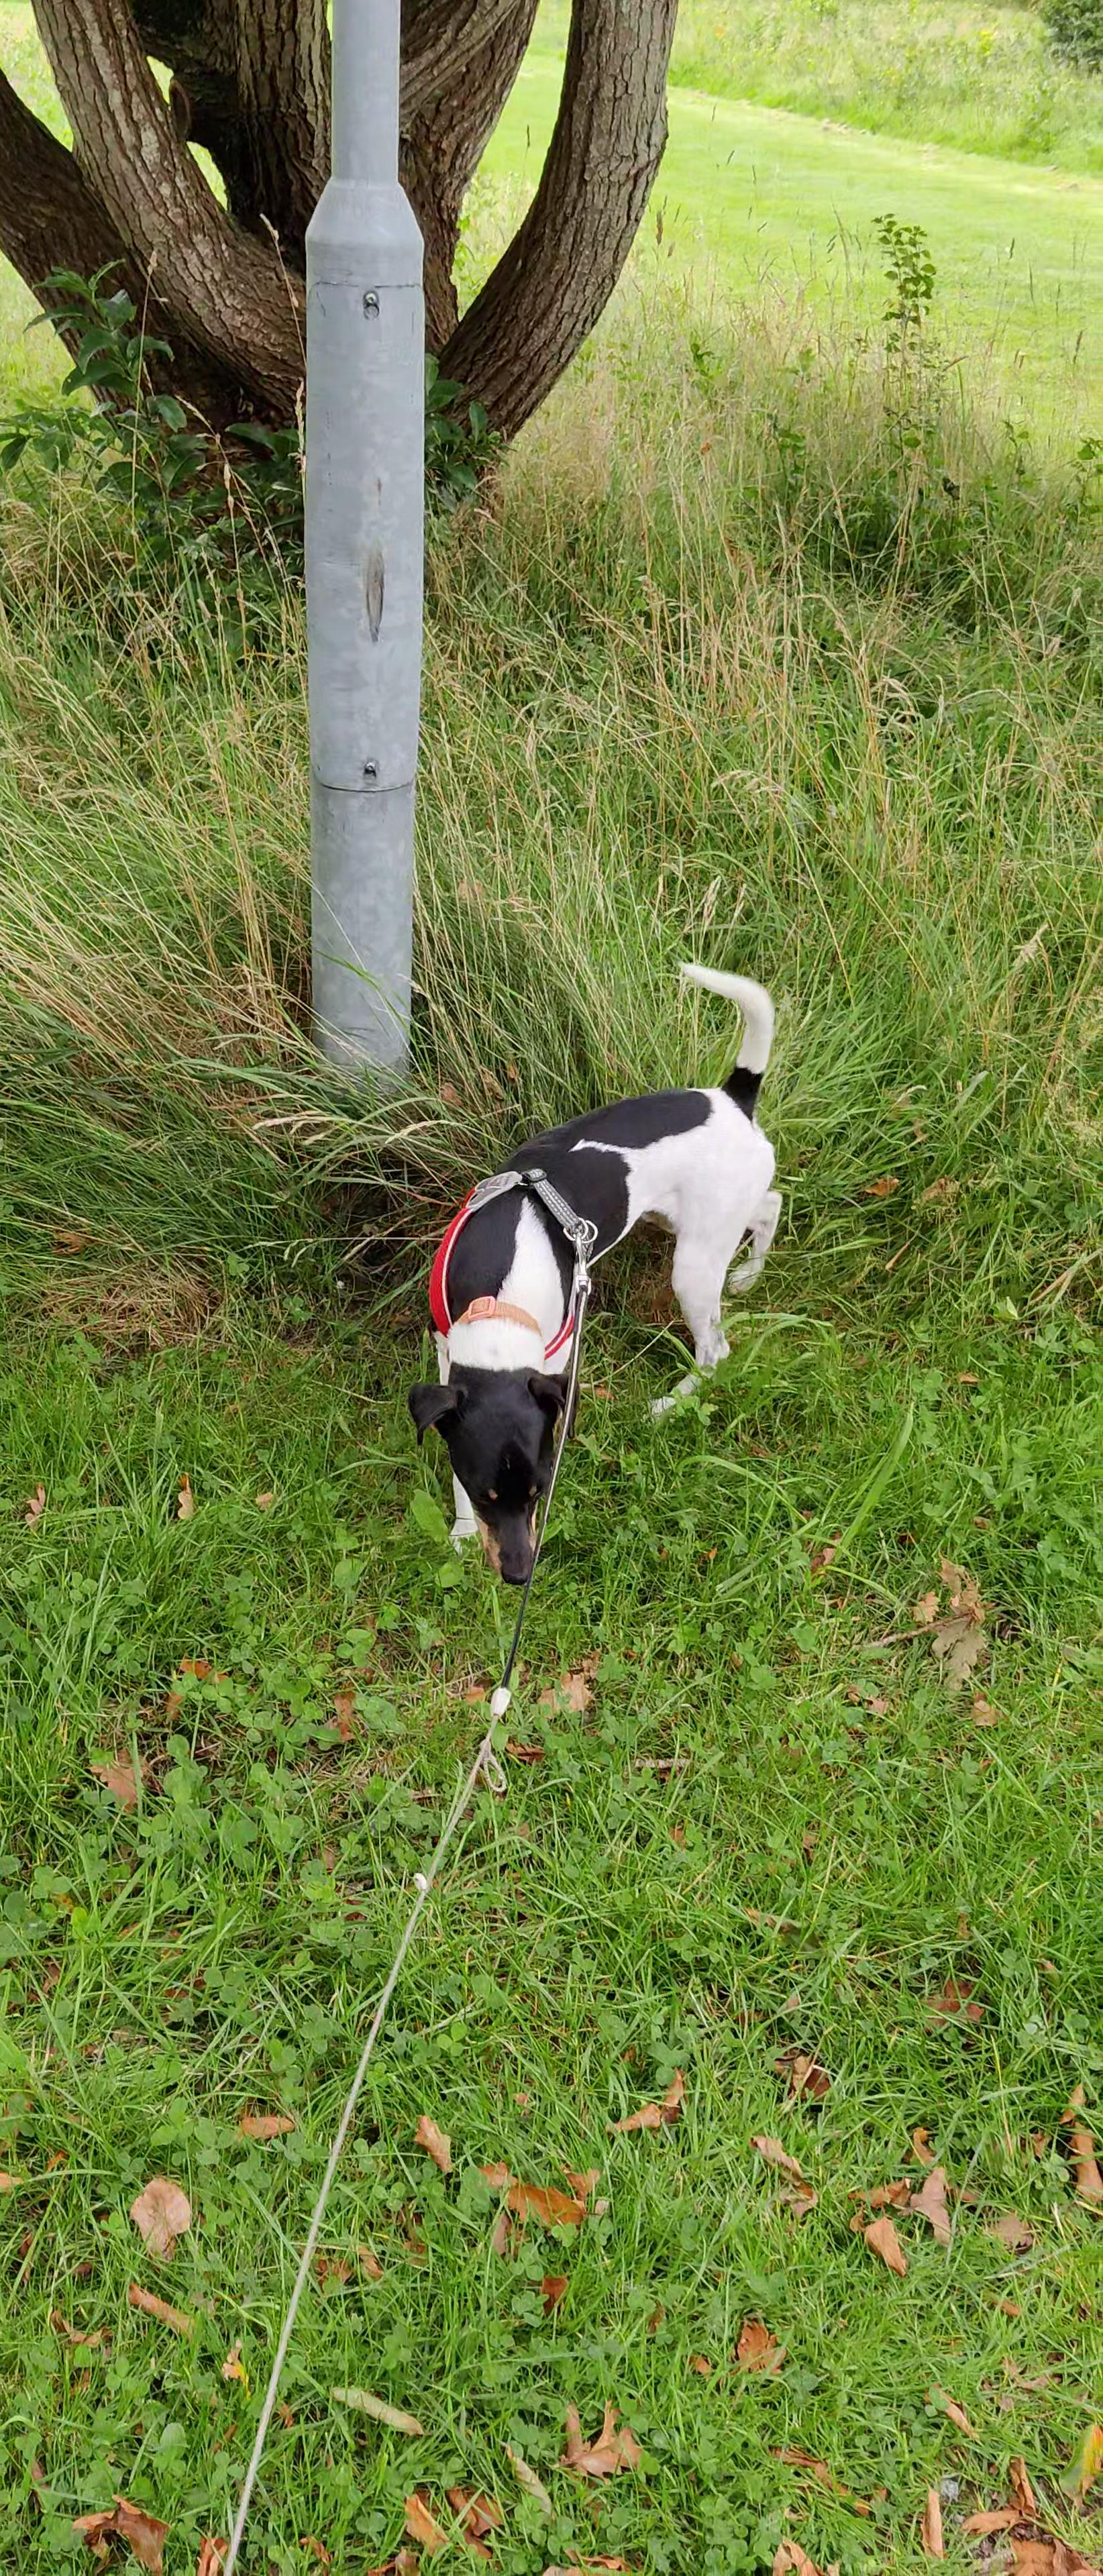Dog: (375, 943, 797, 1585)
